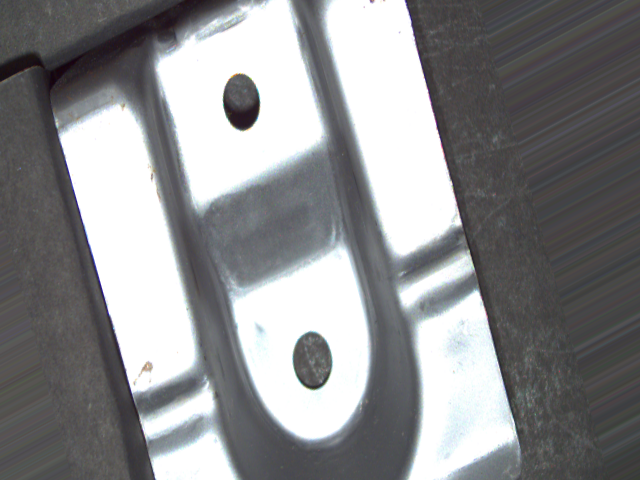defect: (290, 330, 333, 391)
